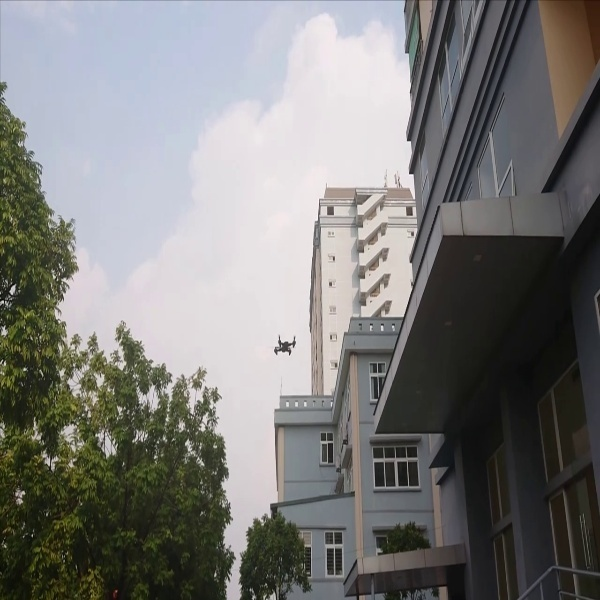drone: (269, 331, 301, 358)
